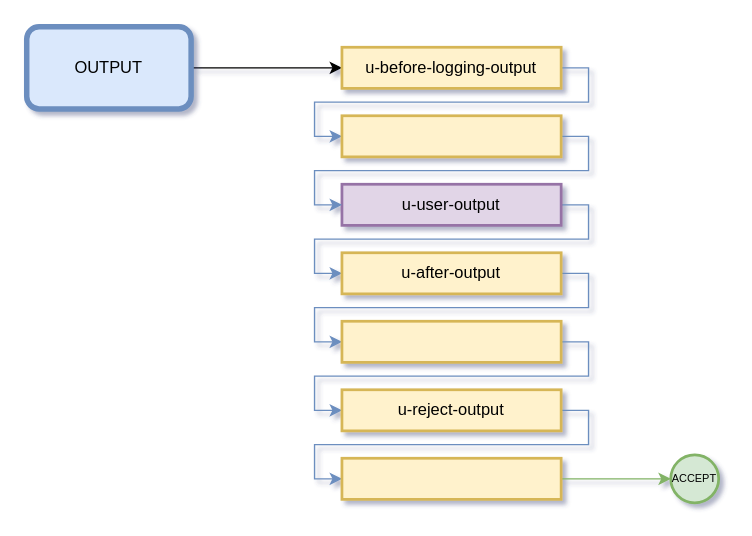
Image size: 752x536. Some labels were removed from this diagram. Here are the shapes that lost their labels. From the top down, the box of each, then its label:
(340, 114, 562, 158): u-before-output
(340, 319, 562, 363): u-after-logging-output
(340, 456, 562, 500): u-track-output
